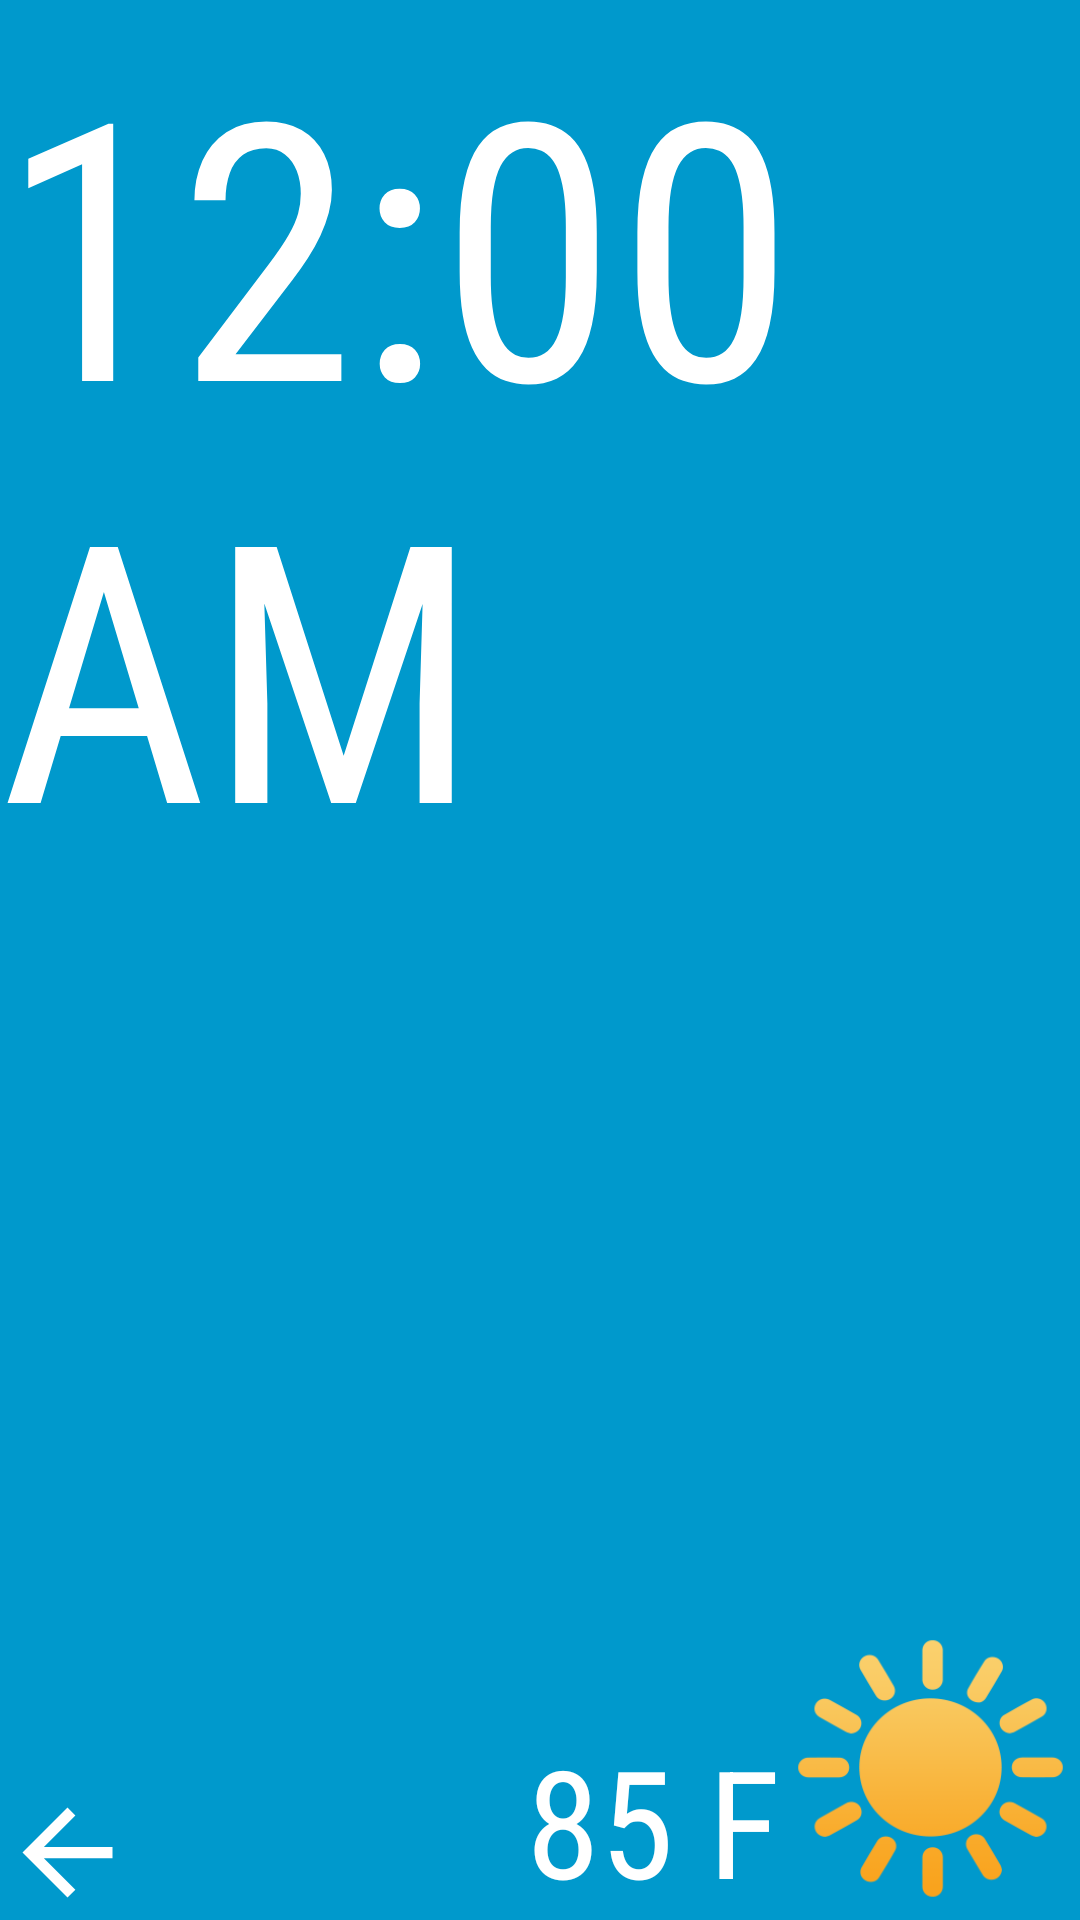

Where icons sit on this 1080x1920 app screen, as {"left": x1, "top": y1, "right": x2, "bottom": y2}:
weather: {"left": 798, "top": 1640, "right": 1063, "bottom": 1897}
